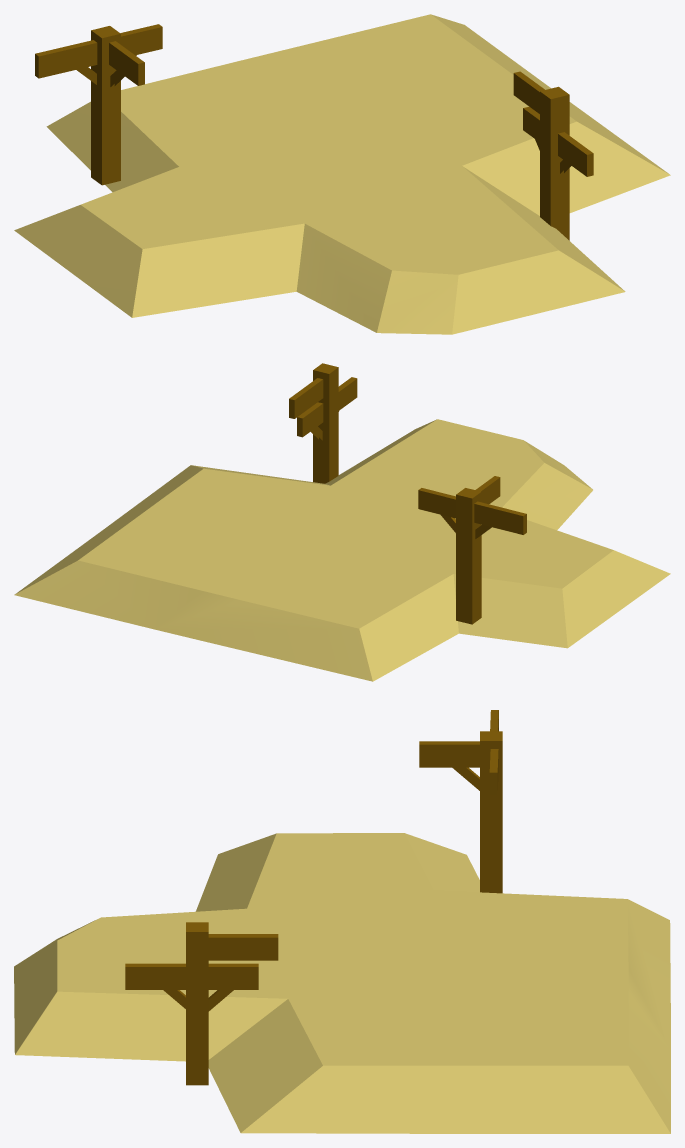
Rendered from FourWayQuarterFilled.fbx.
3 renders of one model, top to bottom at view 1: azimuth 30°, elevation 25°; view 2: azimuth 150°, elevation 25°; view 3: azimuth 270°, elevation 25°, orthographic. The views are drawn at different scales.
Visible parts, largest first — view 1: polySurface15; view 2: polySurface15; view 3: polySurface15.
Boxes of the visible parts, x1,y1,x2,y2 form: polySurface15: (14, 14, 670, 334); polySurface15: (14, 363, 670, 681); polySurface15: (14, 710, 670, 1133).
Size of the model in its own units: 151 by 47.27 by 150.
